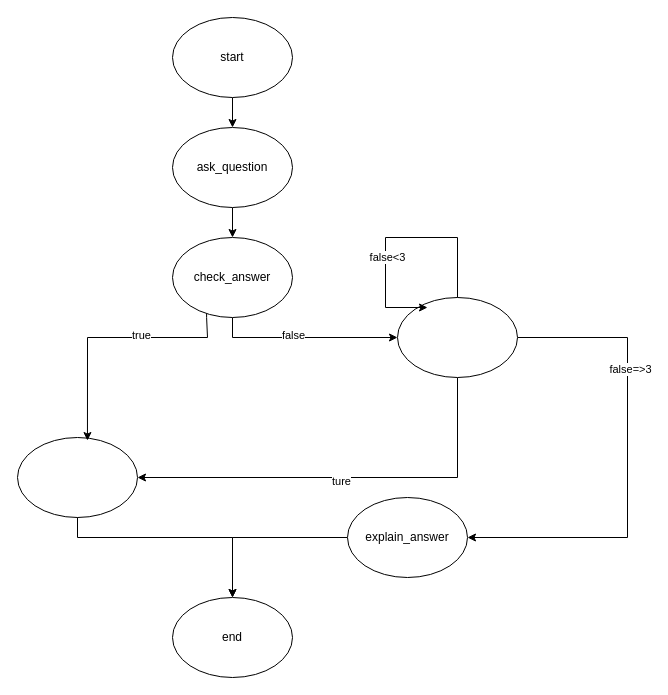
This 668x695 diagram has some shape labels left out. Each missing label, with the centre of its shape:
message_student: pixel 77 477
socratic check: pixel 457 337
